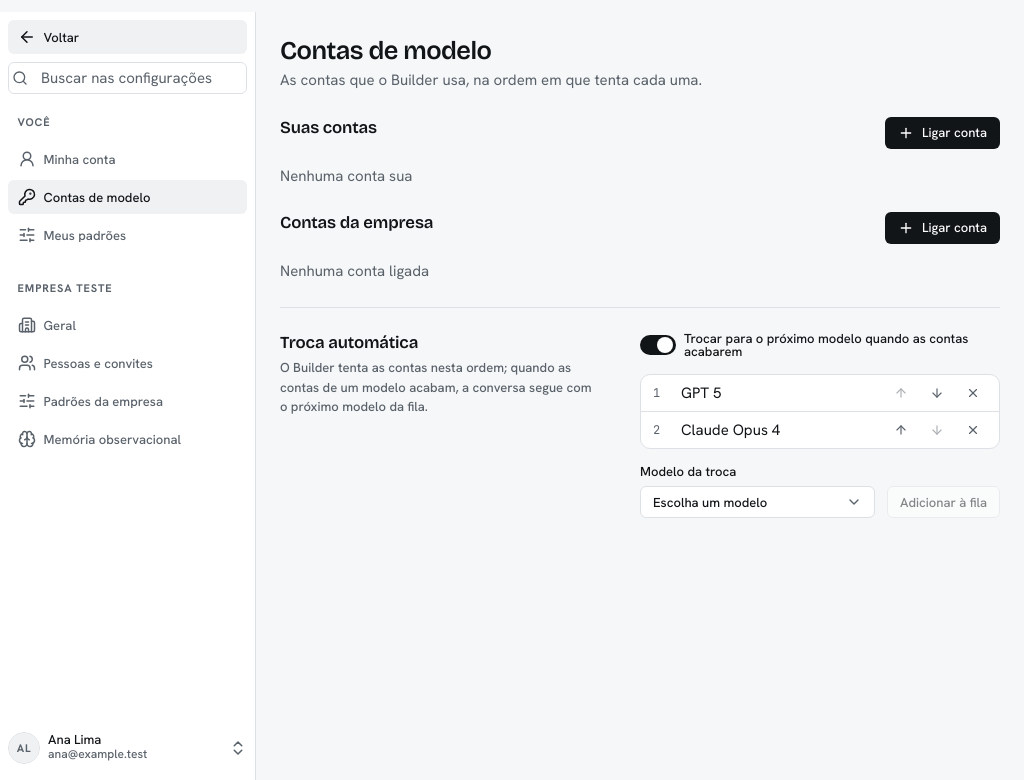
Test case: Troca automática: a revisão velha relê e mostra o salvo com a frase da recusa
This screenshot has width=1024, height=780.
Step 1. Click the button named "Tirar GPT 5" → (973, 393), box [959,379,987,407]
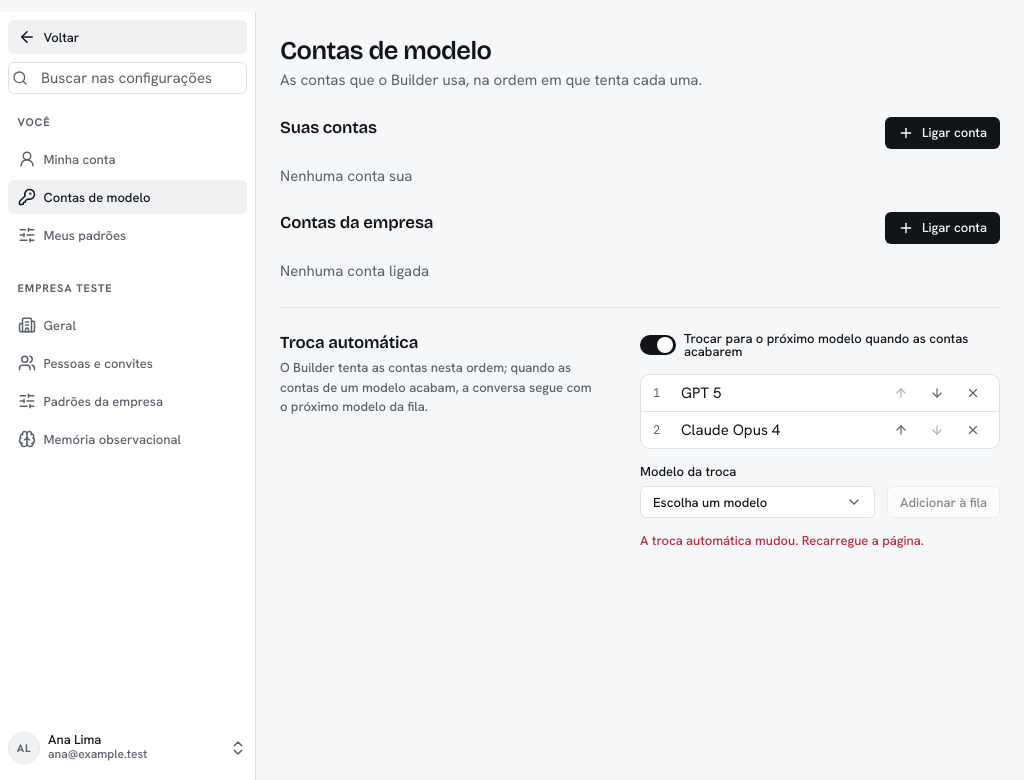
Expected: the message reads "A troca automática mudou. Recarregue a página.", [640,532,924,549]
